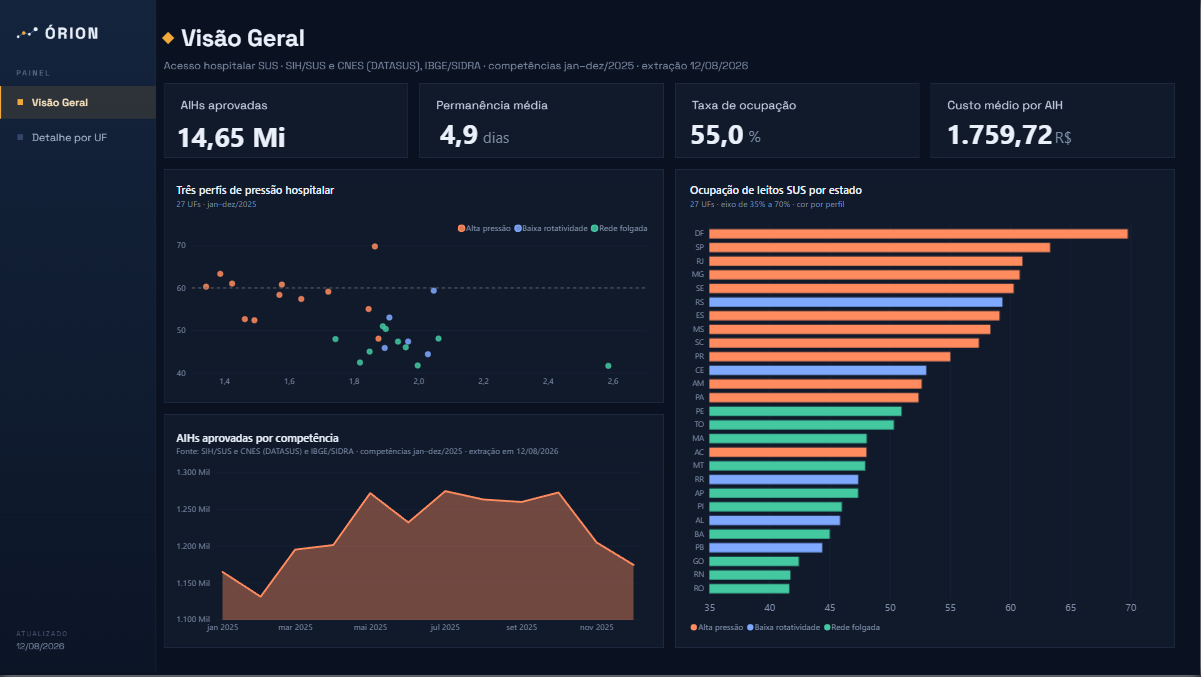

This screenshot's page, from the dashboard's own definition file:
{"tool":"powerbi","page":{"name":"Visão Geral","canvas":[1920,1080],"ordinal":0},"visuals":[{"type":"cardVisual","fields":{"Data":["orion_powerbi.AIHs aprovadas"]},"box":[266,160,384,110],"z":0},{"type":"cardVisual","fields":{"Data":["orion_powerbi.Taxa de ocupação %"]},"box":[1088,158,370,110],"z":1000},{"type":"cardVisual","fields":{"Data":["orion_powerbi.Permanência média"]},"box":[688,158,318,110],"z":2000},{"type":"cardVisual","fields":{"Data":["orion_powerbi.Custo médio por AIH"]},"box":[1498,158,374,110],"z":3000},{"type":"scatterChart","title":"Três perfis de pressão hospitalar","fields":{"Category":["orion_powerbi.uf_sigla"],"Series":["orion_powerbi.cluster_nome"],"X":["Avg(orion_powerbi.leitos_sus_por_mil_hab)"],"Y":["orion_powerbi.Taxa de ocupação %"]},"box":[266.2,278.8,791.2,361.2],"z":4000},{"type":"barChart","title":"Ocupação de leitos SUS por estado","fields":{"Category":["orion_powerbi.uf_sigla"],"Series":["orion_powerbi.cluster_nome"],"Y":["orion_powerbi.Taxa de ocupação %"]},"box":[1087.8,278.9,784.4,755.6],"z":5000},{"type":"lineChart","title":"AIHs aprovadas por competência","fields":{"Category":["orion_powerbi.data_competencia"],"Y":["orion_powerbi.AIHs aprovadas"]},"box":[266.7,673.3,791.7,360],"z":6000},{"type":"textbox","box":[1180,192,62.1,53.6],"z":10000},{"type":"textbox","box":[764,194,62.1,53.6],"z":11000},{"type":"textbox","box":[1670,194,62.1,53.6],"z":12000}]}

Visuals, with their boxes on the page's 1920x1080 design canvas (x1, y1, x2, y2). These are canvas units, not pixel positions in the 1201x677 screenshot, which may show the page scaled, cropped or inside an application window:
cardVisual - orion_powerbi.AIHs aprovadas: (left=266, top=160, right=650, bottom=270)
cardVisual - orion_powerbi.Taxa de ocupação %: (left=1088, top=158, right=1458, bottom=268)
cardVisual - orion_powerbi.Permanência média: (left=688, top=158, right=1006, bottom=268)
cardVisual - orion_powerbi.Custo médio por AIH: (left=1498, top=158, right=1872, bottom=268)
"Três perfis de pressão hospitalar" scatterChart: (left=266, top=279, right=1057, bottom=640)
"Ocupação de leitos SUS por estado" barChart: (left=1088, top=279, right=1872, bottom=1034)
"AIHs aprovadas por competência" lineChart: (left=267, top=673, right=1058, bottom=1033)
textbox: (left=1180, top=192, right=1242, bottom=246)
textbox: (left=764, top=194, right=826, bottom=248)
textbox: (left=1670, top=194, right=1732, bottom=248)
